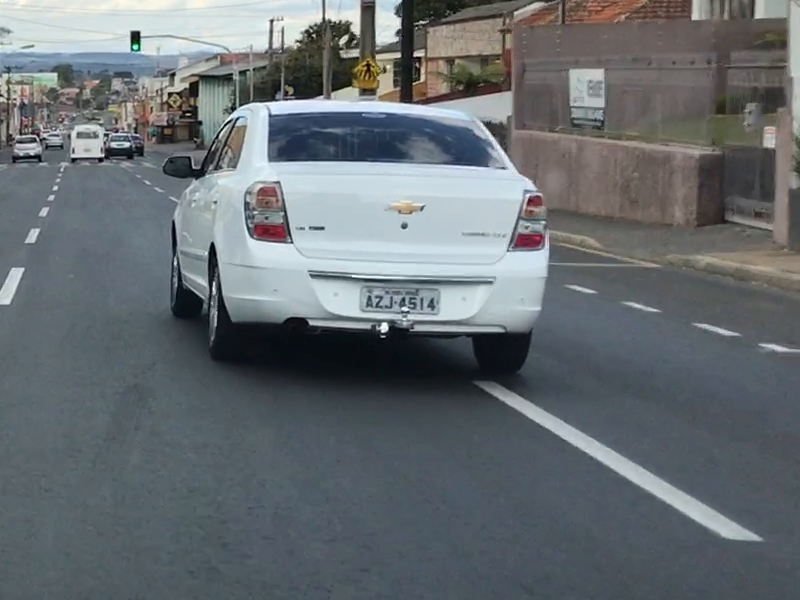placa: (360, 287, 440, 314)
